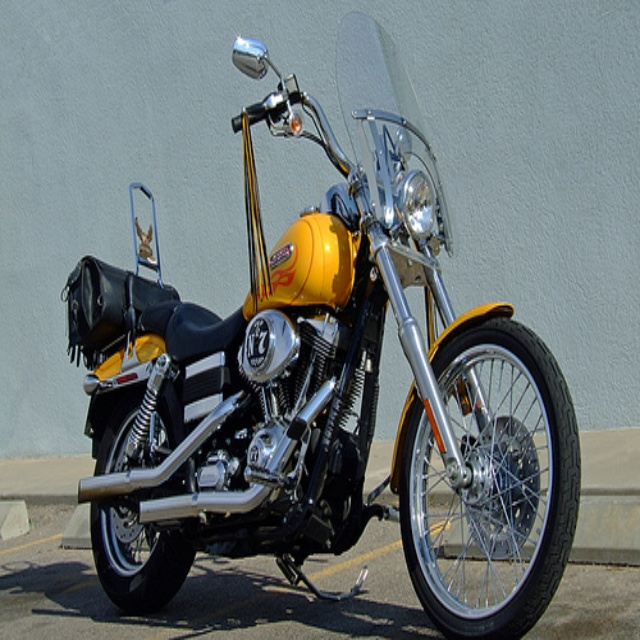Motorcycle: (60, 35, 581, 640)
